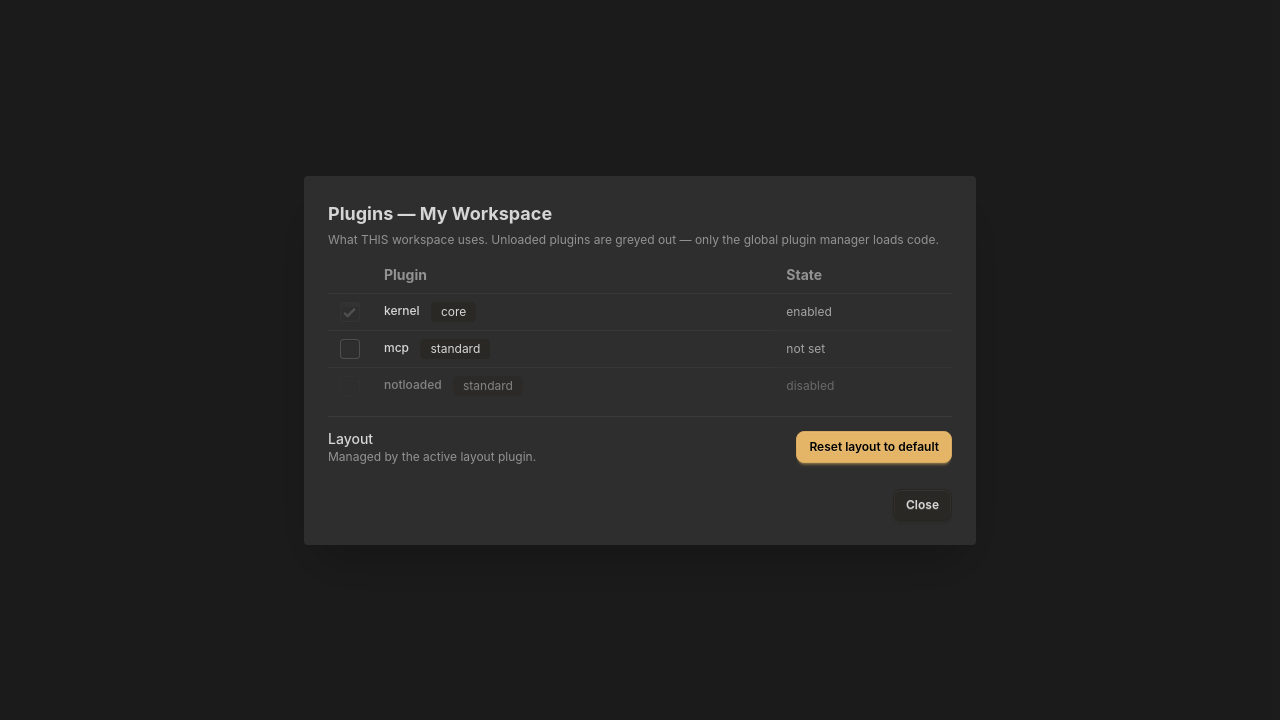
Test: WorkspacePluginModal — the reset-layout affordance (plan 04 §4.4) › a failed reset surfaces the reason as an alert
Click the button "Reset layout to default" at point(874, 446), box [796,430,952,462]
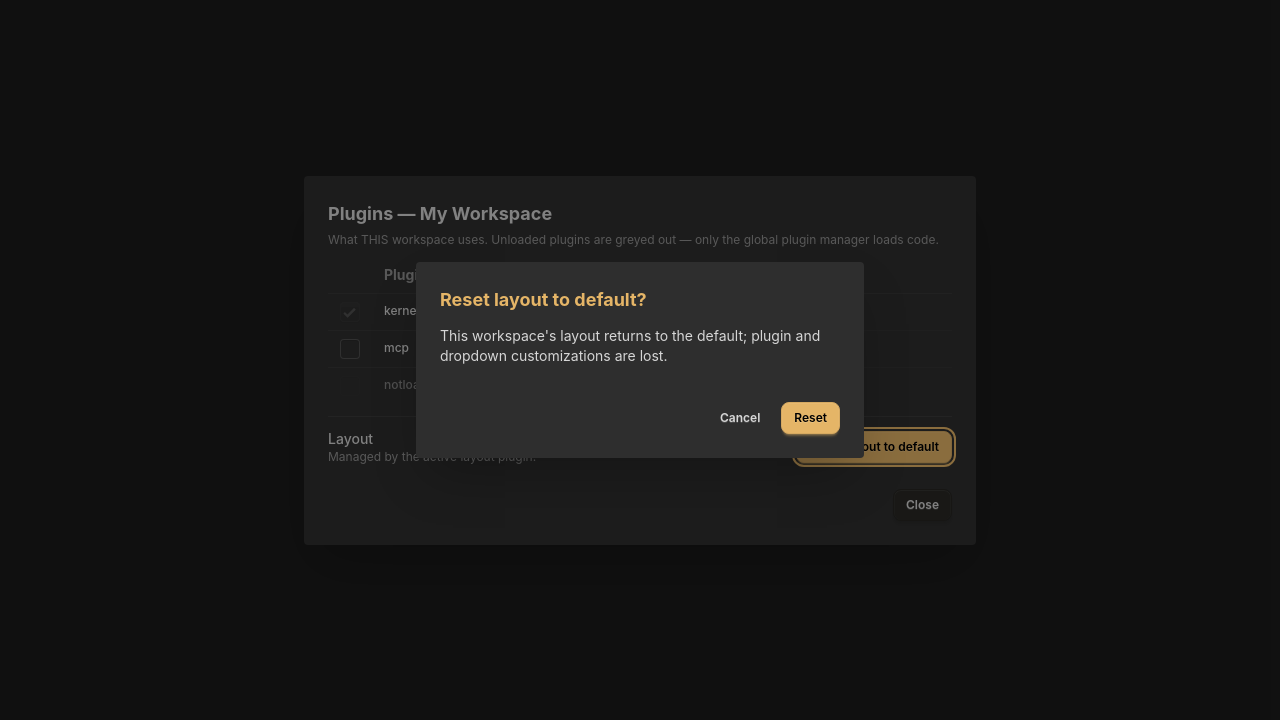
Click the button "Reset" at point(811, 418), box [781,402,840,434]
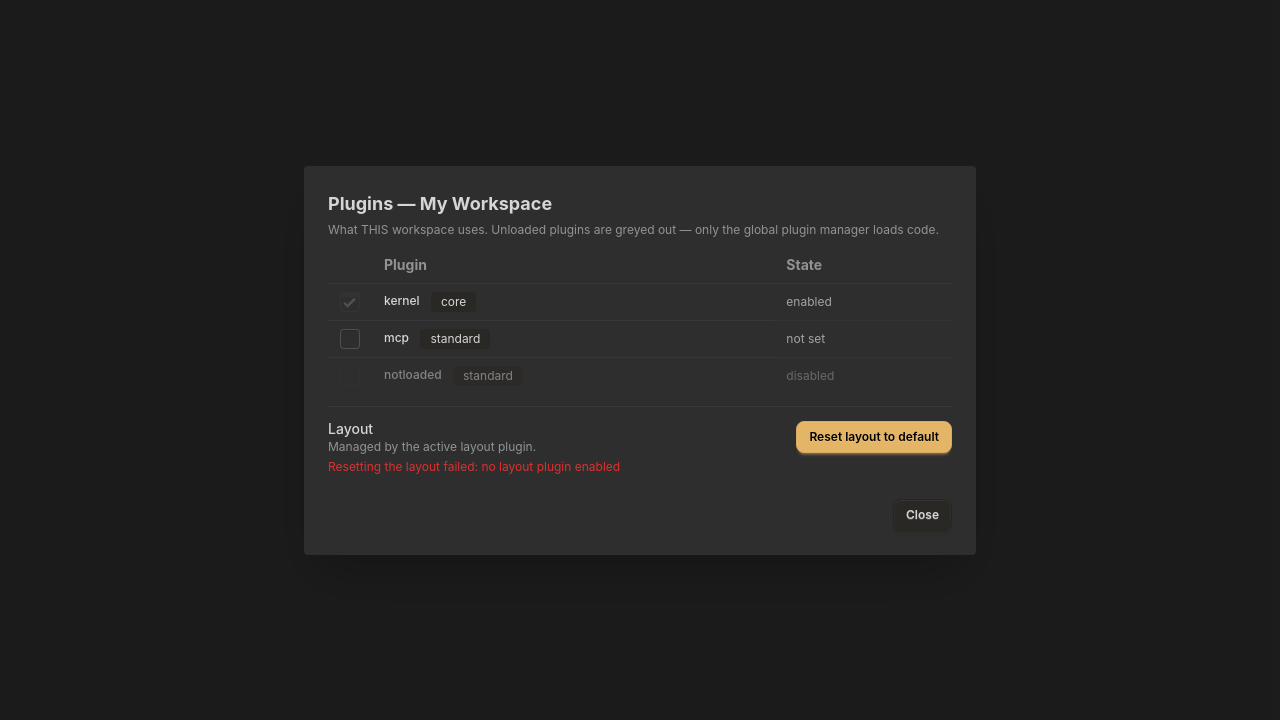
Check: the message shows "Resetting the layout failed", box [328,458,620,474]
